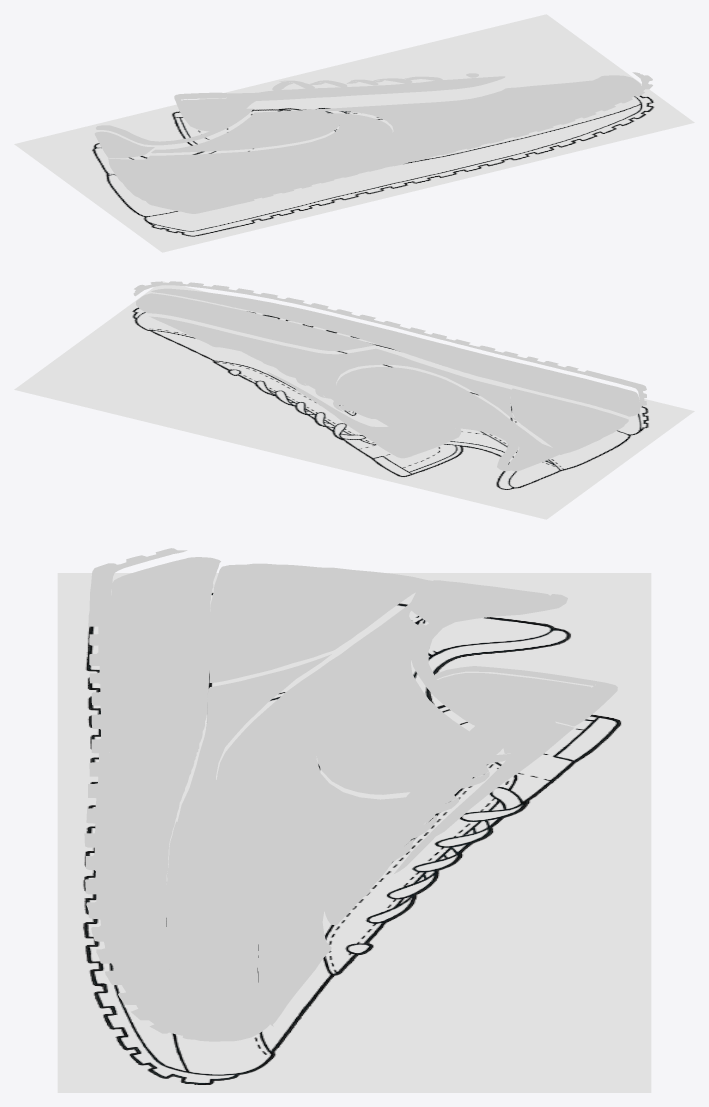
Rendered from Nike Air Tailwind 79.FBX.
The picture shows the model from 3 angles, top to bottom: view 1: azimuth 30°, elevation 25°; view 2: azimuth 150°, elevation 25°; view 3: azimuth 270°, elevation 25°; orthographic projection. The views are drawn at different scales.
Visible parts, largest first — view 1: Plane001, Line022, Line002, Line003, Line004, Line006, Line001, Line008, Line011, Line007, Line005, Line021; view 2: Plane001, Line002, Line022, Line003, Line004, Line006, Line001, Line011, Line008, Line007, Line005, Line021; view 3: Plane001, Line022, Line002, Line003, Line004, Line006, Line001, Line011, Line008, Line007, Line005, Line021 (+1 smaller).
Part boxes in pixels (x1,y1,x2,y2): Plane001: (14, 14, 694, 252); Line022: (151, 80, 591, 172); Line002: (145, 86, 641, 212); Line003: (422, 75, 640, 142); Line004: (108, 158, 263, 200); Line006: (145, 113, 392, 161); Line001: (152, 72, 652, 213); Line008: (246, 76, 505, 101); Line011: (181, 92, 257, 129); Line007: (96, 99, 252, 145); Line005: (94, 131, 154, 158); Line021: (272, 73, 478, 90); Plane001: (14, 281, 694, 519); Line002: (151, 288, 640, 416); Line022: (149, 316, 520, 442); Line003: (136, 293, 375, 350); Line004: (510, 388, 628, 454); Line006: (337, 367, 541, 443); Line001: (133, 281, 646, 407); Line011: (267, 371, 455, 453); Line008: (213, 336, 394, 419); Line007: (391, 421, 518, 471); Line005: (509, 442, 559, 471); Line021: (228, 341, 364, 411); Plane001: (57, 573, 651, 1092); Line022: (177, 623, 468, 1026); Line002: (105, 557, 220, 1035); Line003: (166, 821, 273, 1041); Line004: (209, 563, 432, 682); Line006: (216, 602, 417, 827); Line001: (84, 548, 236, 1039); Line011: (394, 673, 591, 873); Line008: (322, 711, 515, 924); Line007: (411, 594, 597, 725); Line005: (409, 580, 549, 622); Line021: (347, 732, 527, 898).
Size of the model in its own units: 255 by 12.91 by 123.
